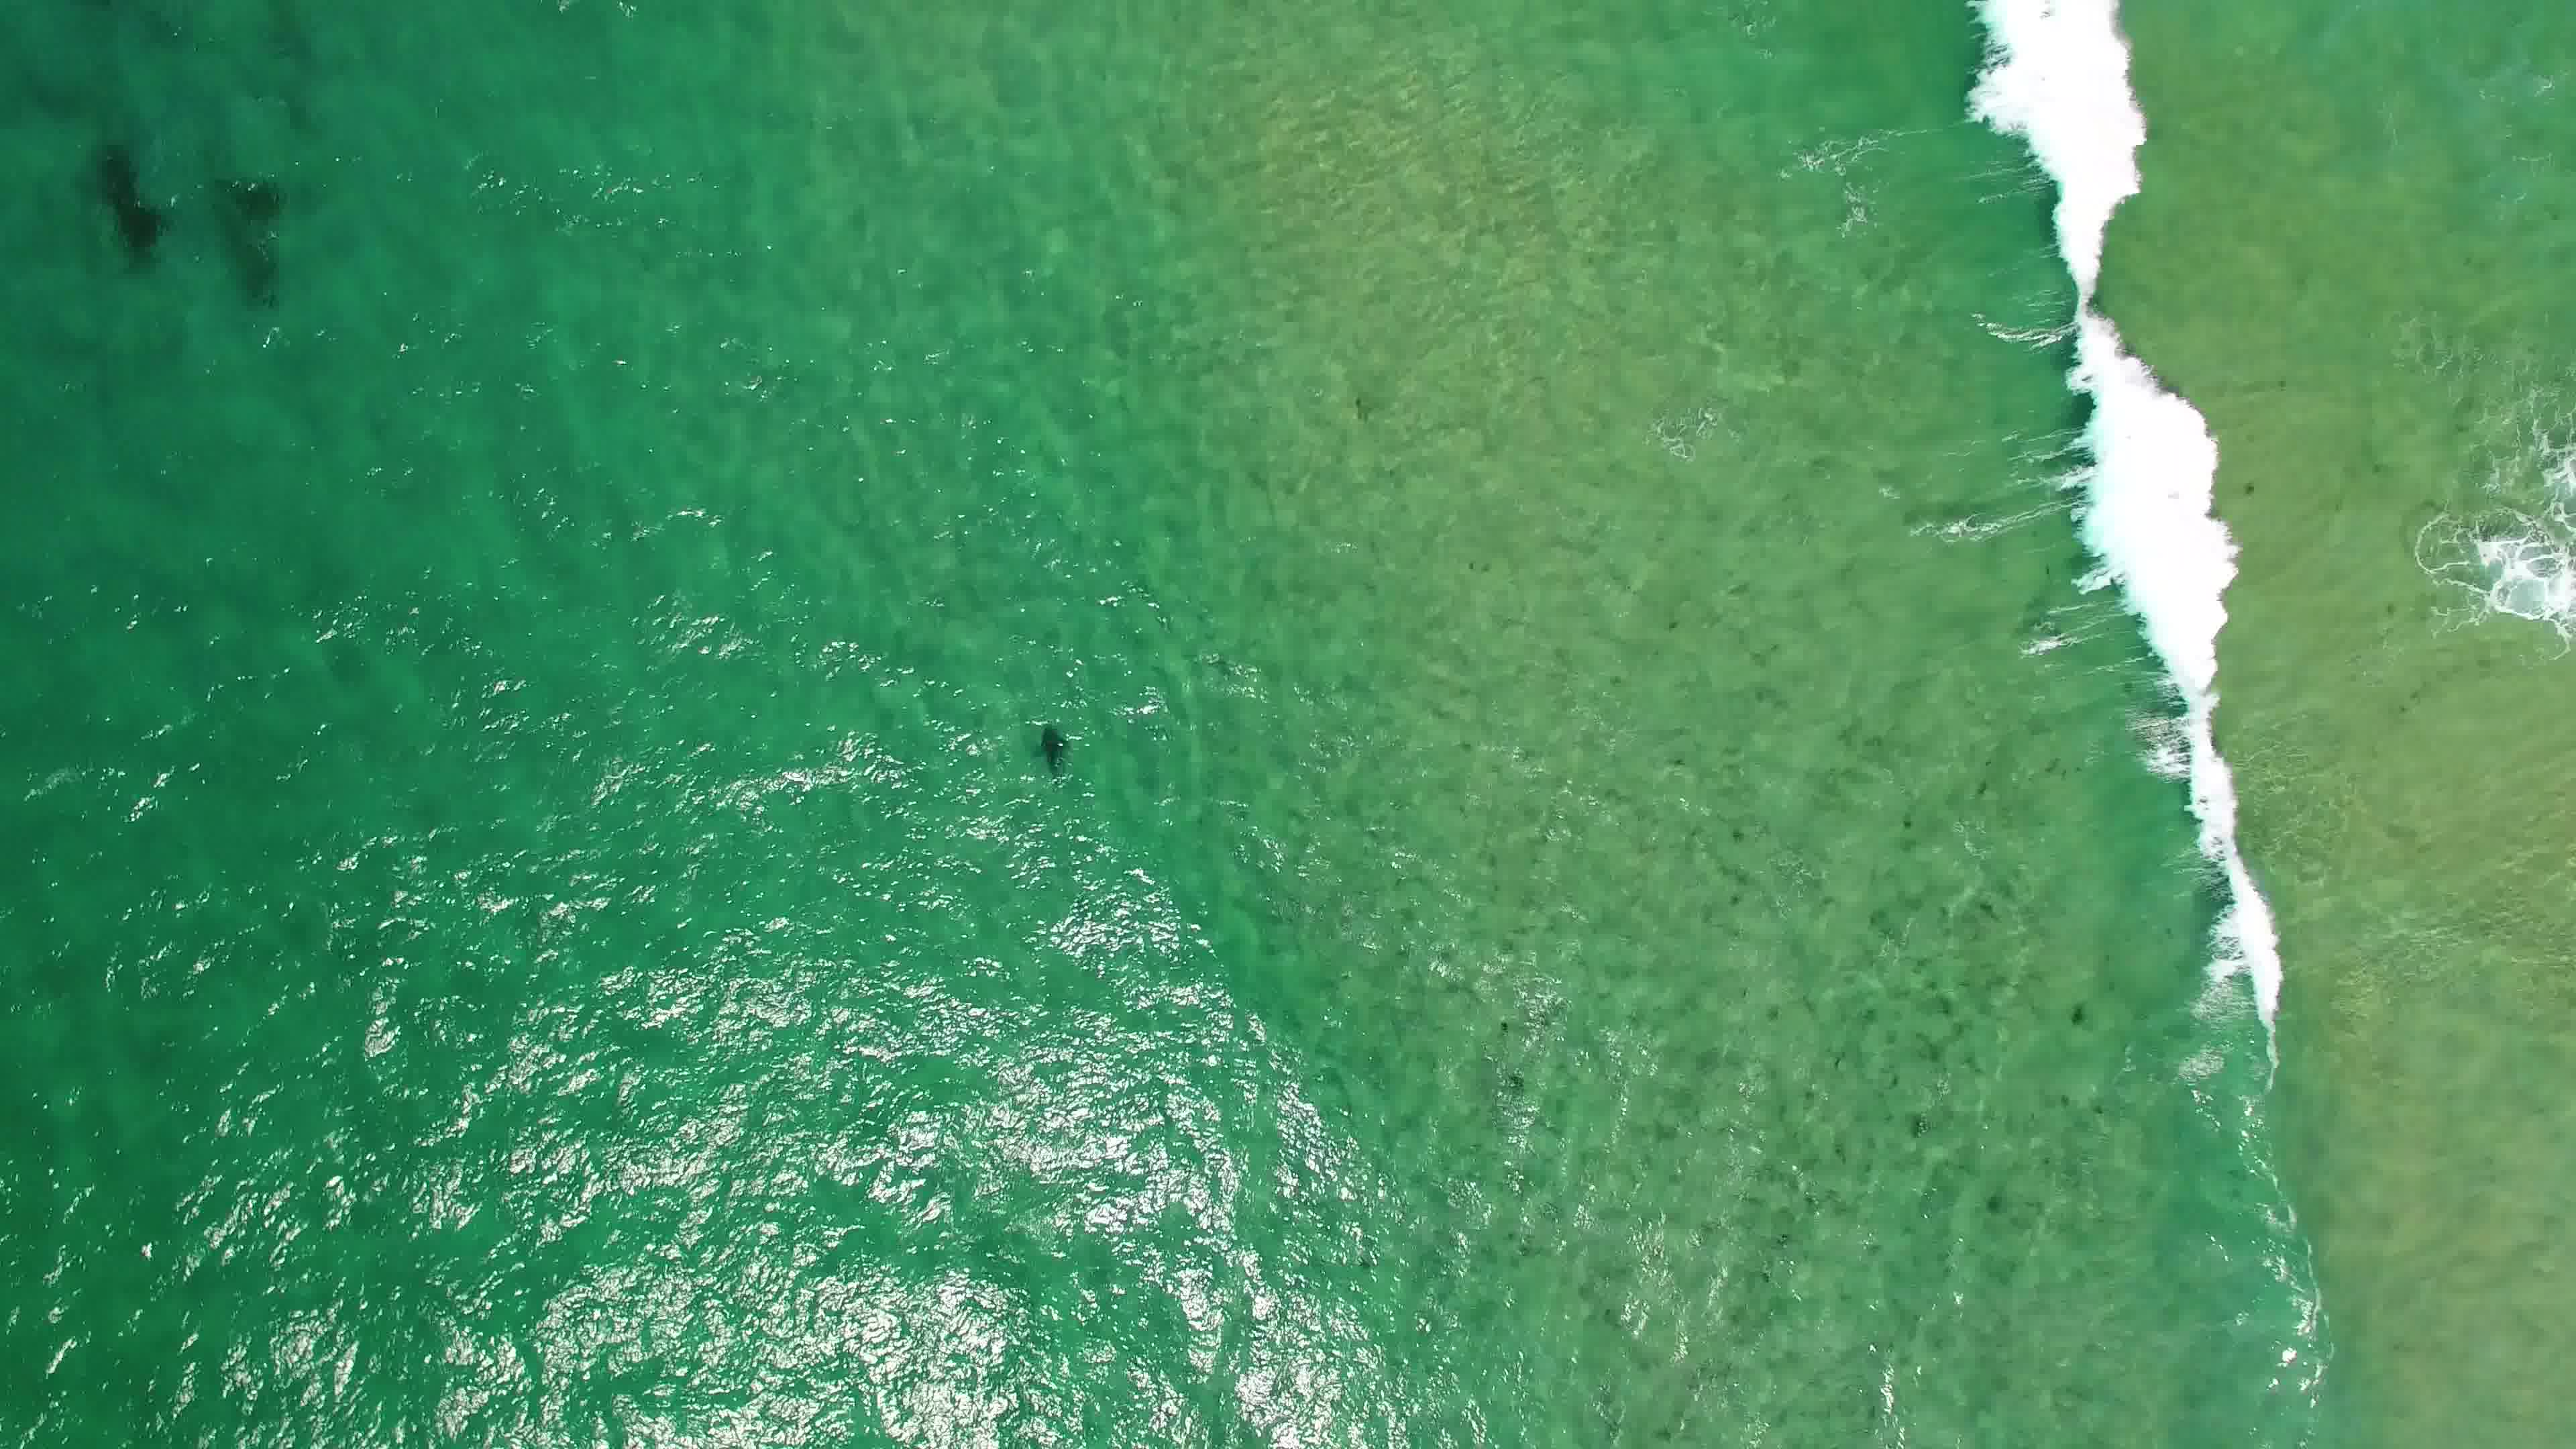shark: (1031, 718, 1077, 784)
